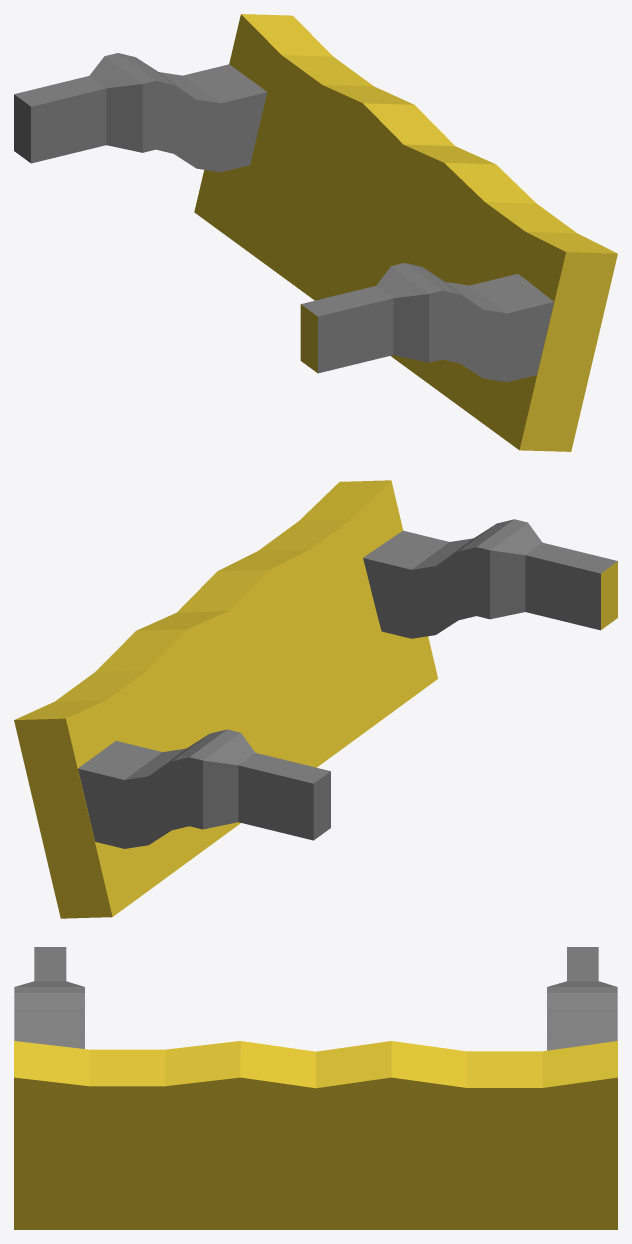
The model's file is Handle.fbx.
3 views of the same model, one above another, from view 1: azimuth 30°, elevation 25°; view 2: azimuth 150°, elevation 25°; view 3: azimuth 270°, elevation 25° (orthographic). The views are drawn at different scales.
Visible parts, largest first — view 1: Cube.002; view 2: Cube.002; view 3: Cube.002.
Boxes of the visible parts, x1,y1,x2,y2 form: Cube.002: [14, 14, 617, 451]; Cube.002: [14, 480, 617, 918]; Cube.002: [14, 947, 617, 1229].
Bounding box in the file's own units: 103 × 68.22 × 200.
